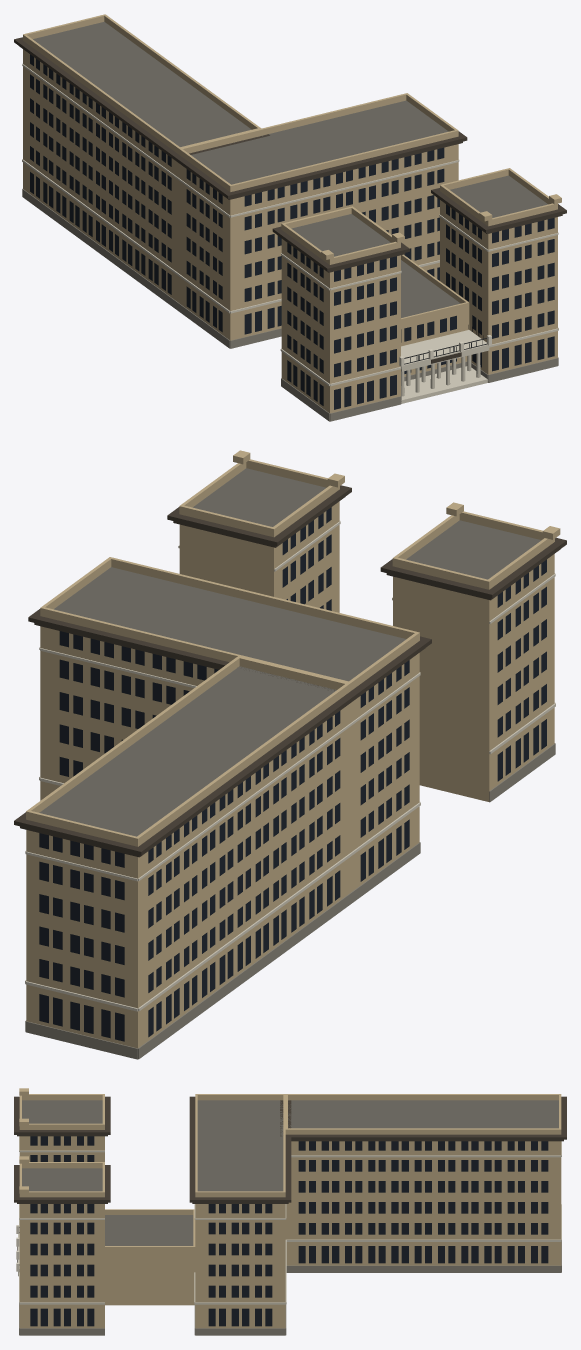
Rendered from marion-hotel-1913.glb.
3 renders of one model, top to bottom at view 1: azimuth 30°, elevation 25°; view 2: azimuth 150°, elevation 25°; view 3: azimuth 270°, elevation 25°, orthographic. The views are drawn at different scales.
Parts seen in each view (by area): view 1: marion_brick, marion_glass, marion_roof, marion_stone, marion_cornice, marion_base; view 2: marion_brick, marion_roof, marion_glass, marion_cornice, marion_base, marion_stone; view 3: marion_brick, marion_roof, marion_glass, marion_cornice, marion_base, marion_stone.
Boxes of the visible parts, x1,y1,x2,y2 form: marion_brick: (23,14,561,413); marion_glass: (30,54,554,409); marion_roof: (33,21,547,317); marion_stone: (22,64,558,403); marion_cornice: (14,37,566,363); marion_base: (22,189,558,421); marion_brick: (26,450,560,1048); marion_roof: (39,468,541,836); marion_glass: (39,507,546,1041); marion_cornice: (14,485,566,857); marion_base: (25,743,555,1059); marion_stone: (25,521,555,1011); marion_brick: (19,1088,561,1328); marion_roof: (22,1100,558,1245); marion_glass: (30,1136,548,1326); marion_cornice: (14,1096,566,1262); marion_base: (19,1241,561,1335); marion_stone: (18,1136,561,1304).
Bounding box in the file's own units: 37.8 × 25.2 × 85.7.
